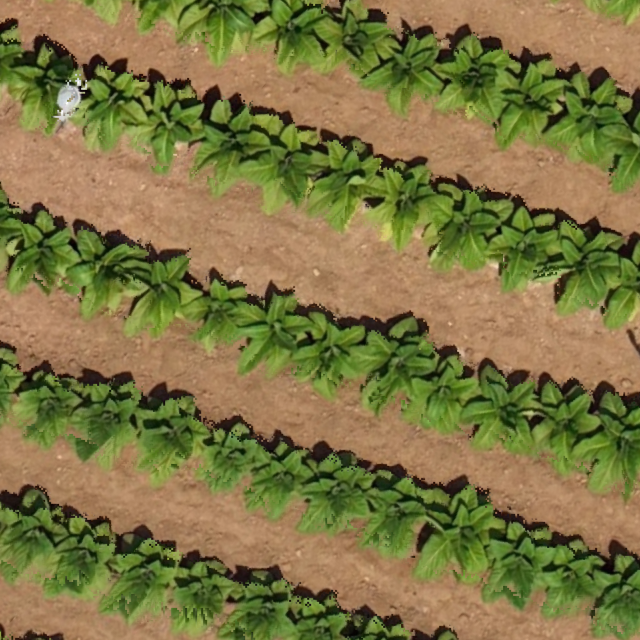healthy: (50, 95, 615, 591), (58, 92, 568, 575), (55, 19, 438, 631), (70, 96, 520, 560), (57, 113, 612, 444), (67, 97, 564, 417), (89, 111, 453, 531), (50, 50, 319, 614), (75, 108, 399, 519), (73, 105, 497, 405), (30, 101, 625, 281), (77, 85, 334, 493), (72, 74, 261, 602), (73, 101, 590, 265), (75, 102, 399, 362), (67, 89, 280, 477), (64, 81, 203, 593), (67, 97, 527, 244), (63, 75, 234, 454), (75, 94, 332, 346), (67, 88, 274, 330), (77, 99, 462, 223), (62, 96, 404, 199), (68, 87, 221, 310), (75, 85, 171, 428), (76, 98, 140, 577), (67, 97, 347, 181), (70, 94, 163, 290), (28, 111, 625, 135), (32, 95, 63, 528), (66, 102, 107, 415), (68, 102, 289, 159), (72, 76, 474, 105), (62, 40, 356, 78), (62, 93, 84, 556), (78, 87, 234, 139), (66, 96, 529, 113), (76, 63, 406, 86), (79, 36, 294, 69), (55, 13, 612, 24), (75, 95, 104, 270), (42, 94, 67, 249), (79, 105, 595, 112), (81, 25, 221, 48), (70, 92, 170, 119), (12, 83, 21, 379), (75, 18, 160, 34), (76, 88, 112, 100), (42, 83, 73, 94)
